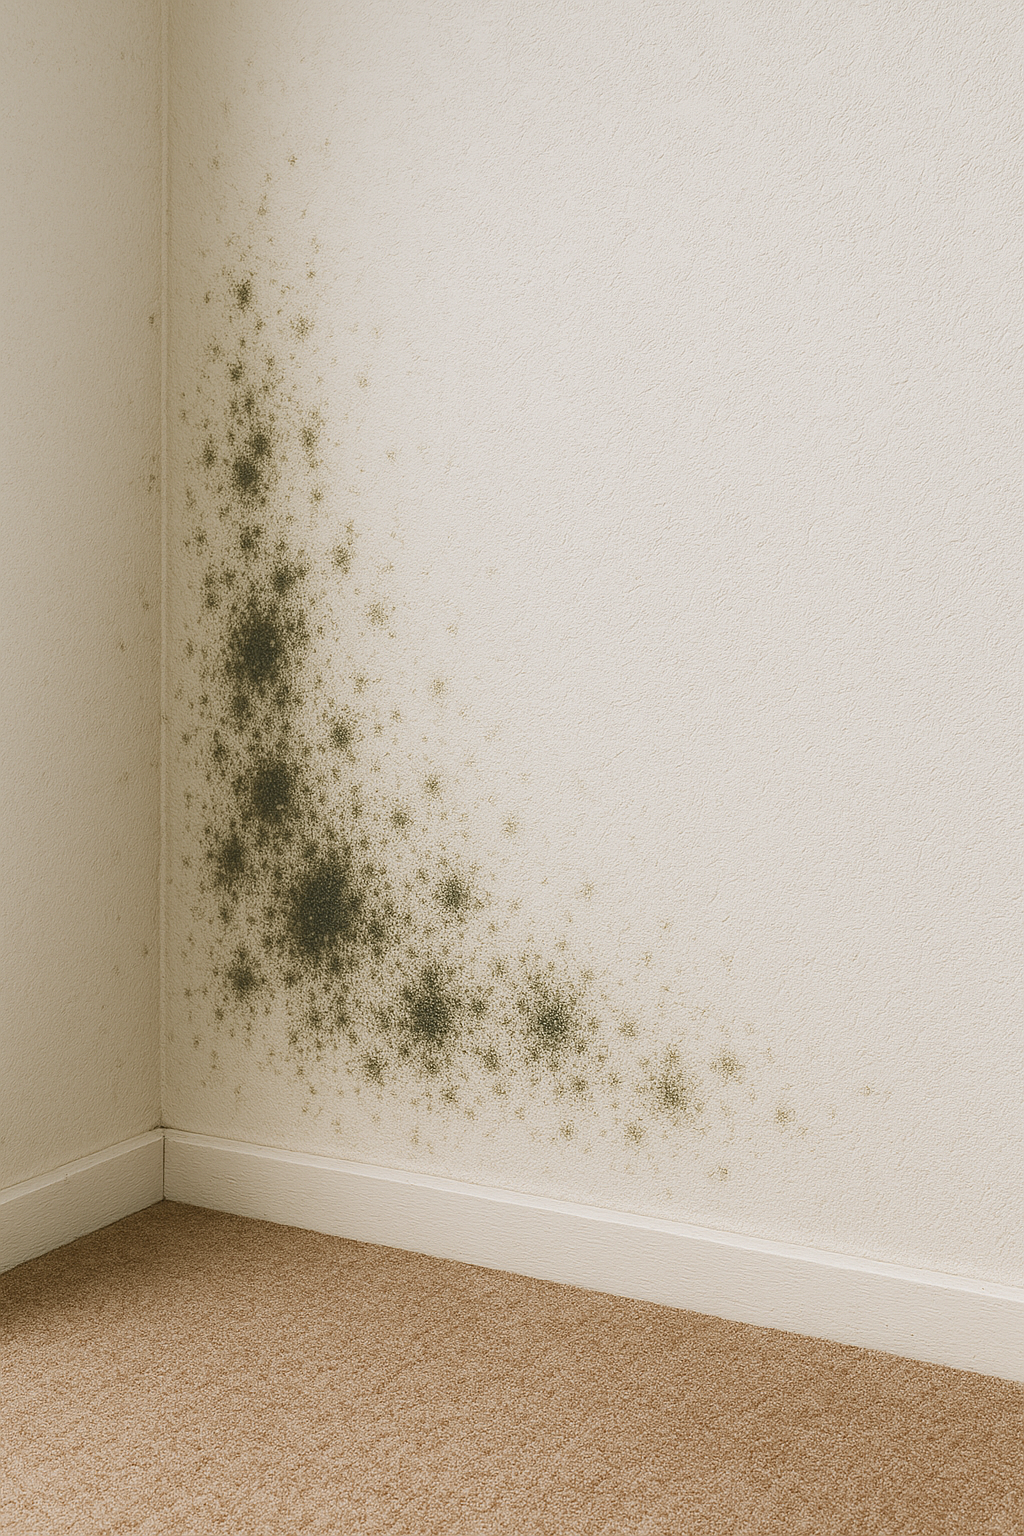schimmel: (203, 758, 366, 995), (194, 290, 286, 529), (195, 563, 295, 713), (401, 963, 480, 1057), (514, 986, 594, 1057)
